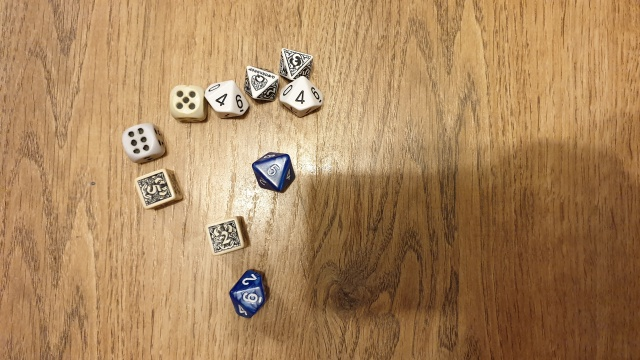d10-4: (200, 79, 249, 121), (281, 77, 324, 114)
d10-5: (253, 149, 292, 192)
d10-6: (229, 268, 271, 322)
d6-5: (170, 83, 205, 119)
d6-6: (120, 123, 163, 160)
d6p-2: (204, 215, 248, 258)
d6p-5: (133, 168, 175, 208)
d8p-3: (279, 48, 313, 80)
d8p-8: (240, 64, 280, 101)
